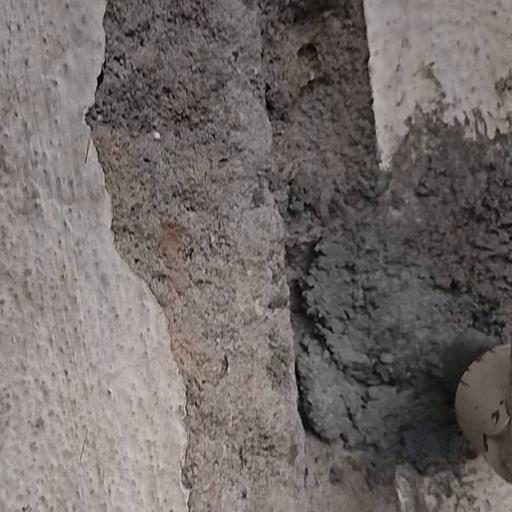spalling: (71, 0, 512, 512)
